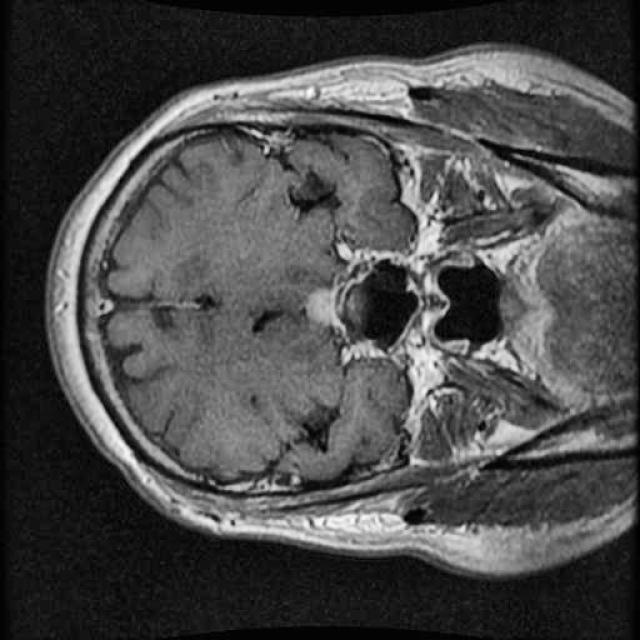Tumor: (302, 279, 346, 338)
